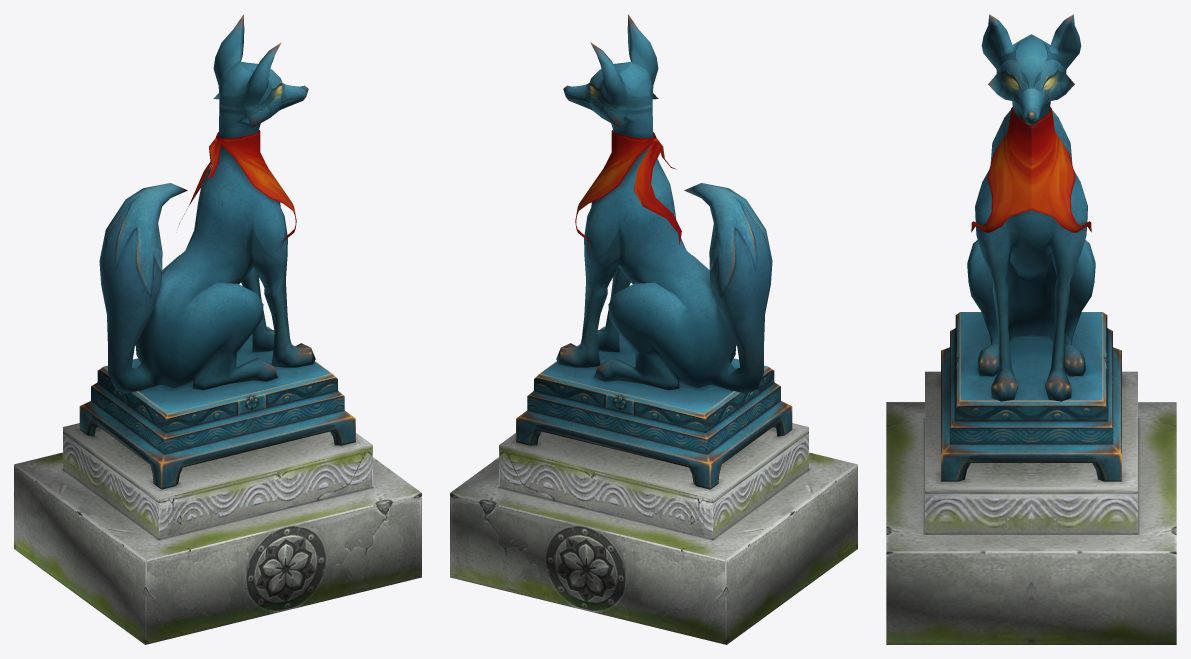
File: xx_diaoxiang.FBX
The picture shows the model from 3 angles, left to right: view 1: azimuth 30°, elevation 25°; view 2: azimuth 150°, elevation 25°; view 3: azimuth 270°, elevation 25°; orthographic projection. The views are drawn at different scales.
Parts seen in each view (by area): view 1: hulidiaoxiang@moxing; view 2: hulidiaoxiang@moxing; view 3: hulidiaoxiang@moxing.
Boxes of the visible parts, x1,y1,x2,y2 form: hulidiaoxiang@moxing: (14,14,421,644); hulidiaoxiang@moxing: (450,14,857,644); hulidiaoxiang@moxing: (886,14,1176,644).
Bounding box in the file's own units: 88.45 × 160 × 72.66.
